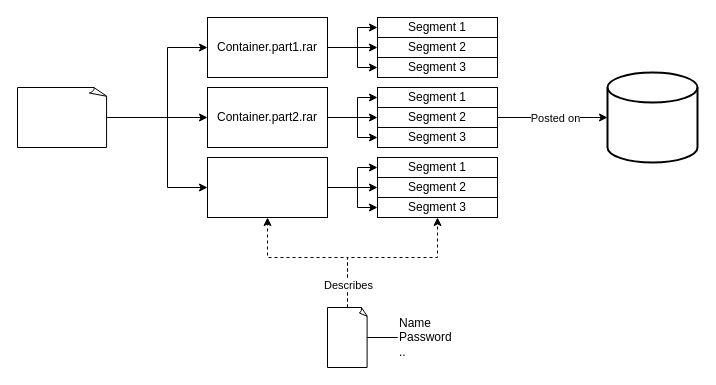
Image size: 716x385. Some labels were removed from this diagram. The centre of each missing label's shape, as x and y in pixels:
"Container.part3.rar" belongs at point (267, 187).
"Movie.mkv" belongs at point (62, 117).
"News-Server" belongs at point (652, 117).
"NZB" belongs at point (347, 337).
